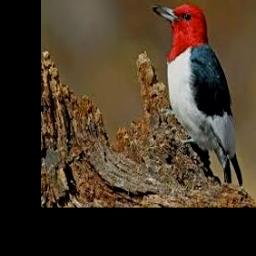Woodpecker: (153, 3, 243, 187)
